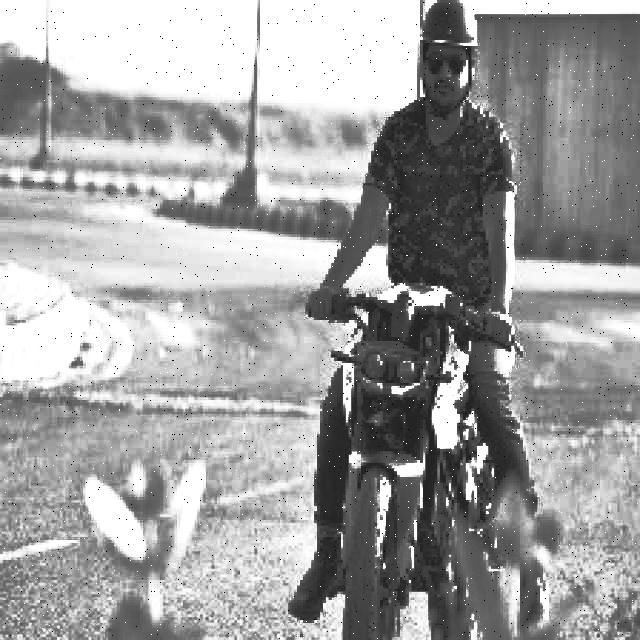Bike: (339, 256, 495, 640)
